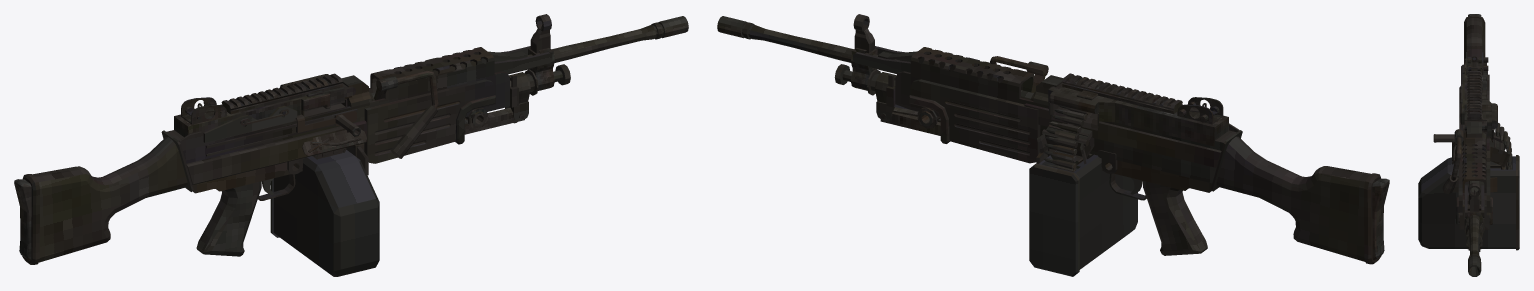
File: shop-item-1072.glb
3 renders of one model, left to right at view 1: azimuth 30°, elevation 25°; view 2: azimuth 150°, elevation 25°; view 3: azimuth 270°, elevation 25°, orthographic. The views are drawn at different scales.
Parts seen in each view (by area): view 1: M249_SAW, Magazin, Slide, Bolt; view 2: M249_SAW, Magazin, Slide; view 3: M249_SAW, Magazin, Slide, Bolt.
Boxes of the visible parts, <box> form: M249_SAW: <box>14,14,688,264</box>; Magazin: <box>270,148,379,276</box>; Slide: <box>174,73,355,142</box>; Bolt: <box>295,110,360,136</box>; M249_SAW: <box>717,14,1389,264</box>; Magazin: <box>1029,105,1137,276</box>; Slide: <box>1047,73,1228,146</box>; M249_SAW: <box>1442,14,1510,276</box>; Magazin: <box>1418,123,1519,250</box>; Slide: <box>1460,52,1497,137</box>; Bolt: <box>1433,114,1461,145</box>.
Size of the model in its own units: 7.81 by 2.05 by 1.32.
1 material, 1 textured.
